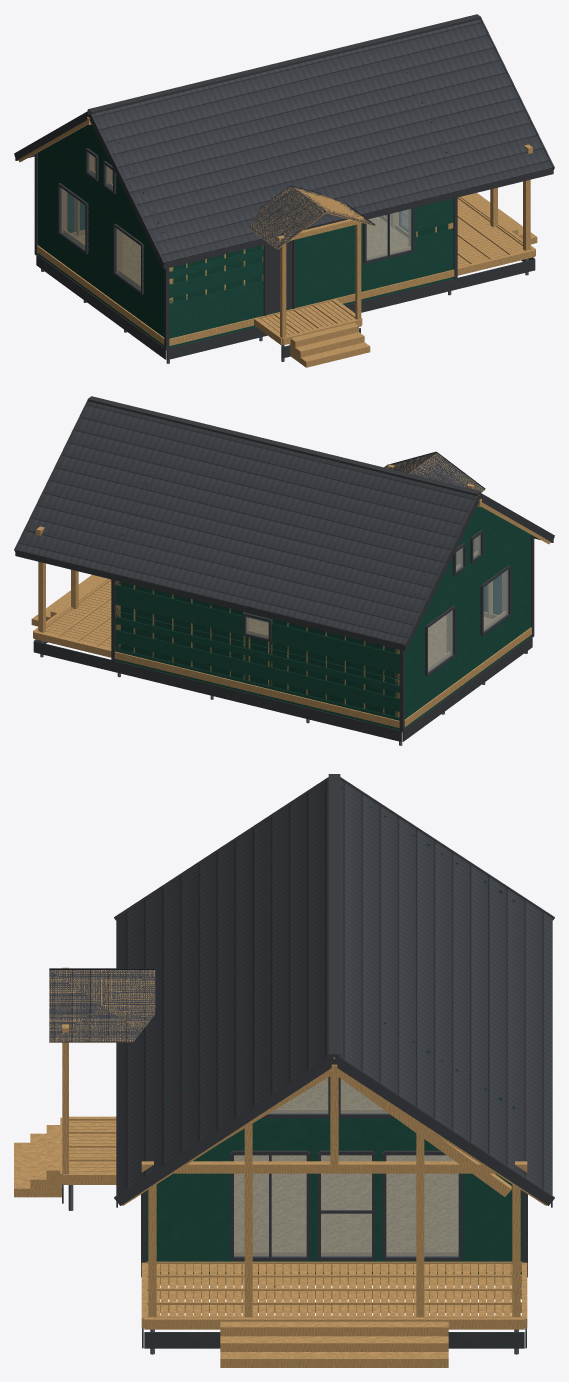
File: house7x9.glb
3 views of the same model, one above another, from view 1: azimuth 30°, elevation 25°; view 2: azimuth 150°, elevation 25°; view 3: azimuth 270°, elevation 25° (orthographic). The views are drawn at different scales.
Visible parts, largest first — view 1: s6_roofS, s8_S_clad06, s8_S_clad12, s8_S_clad09, s8_S_clad03, s6_ridgecap, s6_proofW, s8_W_clad06, s8_plinth0, s6_fascia0, s8_W_clad18, s7_winS1_glass (+33 smaller); view 2: s6_roofN, s8_N_clad06, s8_N_clad09, s8_N_clad12, s8_plinth1, s8_N_clad03, s6_fascia1, s6_ridgecap, s8_W_clad06, s2_h_rim1, s8_W_clad18, s8_plinth2 (+20 smaller); view 3: s6_roofN, s6_roofS, s3_floor, s6_proofE, s7_winE2_glass, s7_winE0_glass, s7_winE1_glass, s8_E_clad06, s8_E_clad09, s5_ttie, s6_proofE_under, s6_ridgecap (+34 smaller).
Part boxes in pixels (bbox=[...]): s6_roofS: bbox=[92, 19, 552, 262]; s8_S_clad06: bbox=[169, 242, 453, 329]; s8_S_clad12: bbox=[169, 203, 453, 291]; s8_S_clad09: bbox=[169, 224, 453, 310]; s8_S_clad03: bbox=[169, 261, 453, 347]; s6_ridgecap: bbox=[87, 14, 481, 114]; s6_proofW: bbox=[249, 185, 325, 249]; s8_W_clad06: bbox=[37, 218, 164, 328]; s8_plinth0: bbox=[167, 279, 455, 359]; s6_fascia0: bbox=[163, 168, 553, 268]; s8_W_clad18: bbox=[37, 147, 163, 241]; s7_winS1_glass: bbox=[366, 209, 411, 260]; s6_roofN: bbox=[16, 401, 476, 644]; s8_N_clad06: bbox=[115, 624, 399, 711]; s8_N_clad09: bbox=[115, 605, 399, 692]; s8_N_clad12: bbox=[115, 585, 399, 673]; s8_plinth1: bbox=[113, 661, 401, 741]; s8_N_clad03: bbox=[115, 643, 399, 729]; s6_fascia1: bbox=[15, 550, 405, 650]; s6_ridgecap: bbox=[87, 396, 481, 496]; s8_W_clad06: bbox=[404, 600, 531, 710]; s2_h_rim1: bbox=[114, 651, 399, 727]; s8_W_clad18: bbox=[405, 529, 531, 623]; s8_plinth2: bbox=[402, 636, 532, 741]; s6_roofN: bbox=[335, 780, 552, 1195]; s6_roofS: bbox=[116, 780, 333, 1195]; s3_floor: bbox=[234, 1078, 458, 1250]; s6_proofE: bbox=[49, 969, 155, 1041]; s7_winE2_glass: bbox=[386, 1155, 458, 1256]; s7_winE0_glass: bbox=[234, 1155, 306, 1256]; s7_winE1_glass: bbox=[321, 1155, 371, 1256]; s8_E_clad06: bbox=[146, 1220, 522, 1248]; s8_E_clad09: bbox=[146, 1192, 522, 1220]; s5_ttie: bbox=[141, 1161, 527, 1173]; s6_proofE_under: bbox=[49, 970, 155, 1042]; s6_ridgecap: bbox=[328, 774, 340, 1057].
Bounding box in the file's own units: 12.85 × 6.29 × 9.96.
11 materials, 8 textured.
